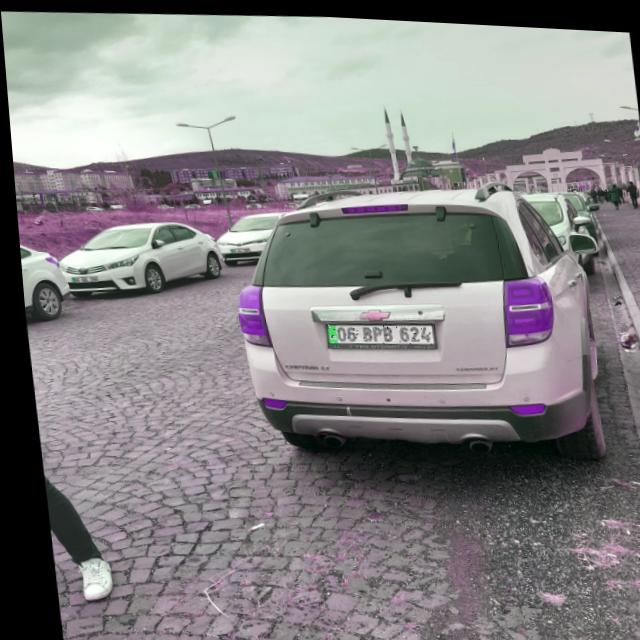license_plate: (321, 317, 429, 344)
